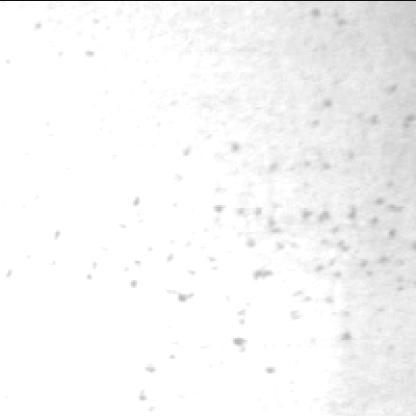pitted_surface: (12, 135, 410, 312), (135, 299, 354, 414), (0, 11, 110, 144), (302, 8, 412, 130)
